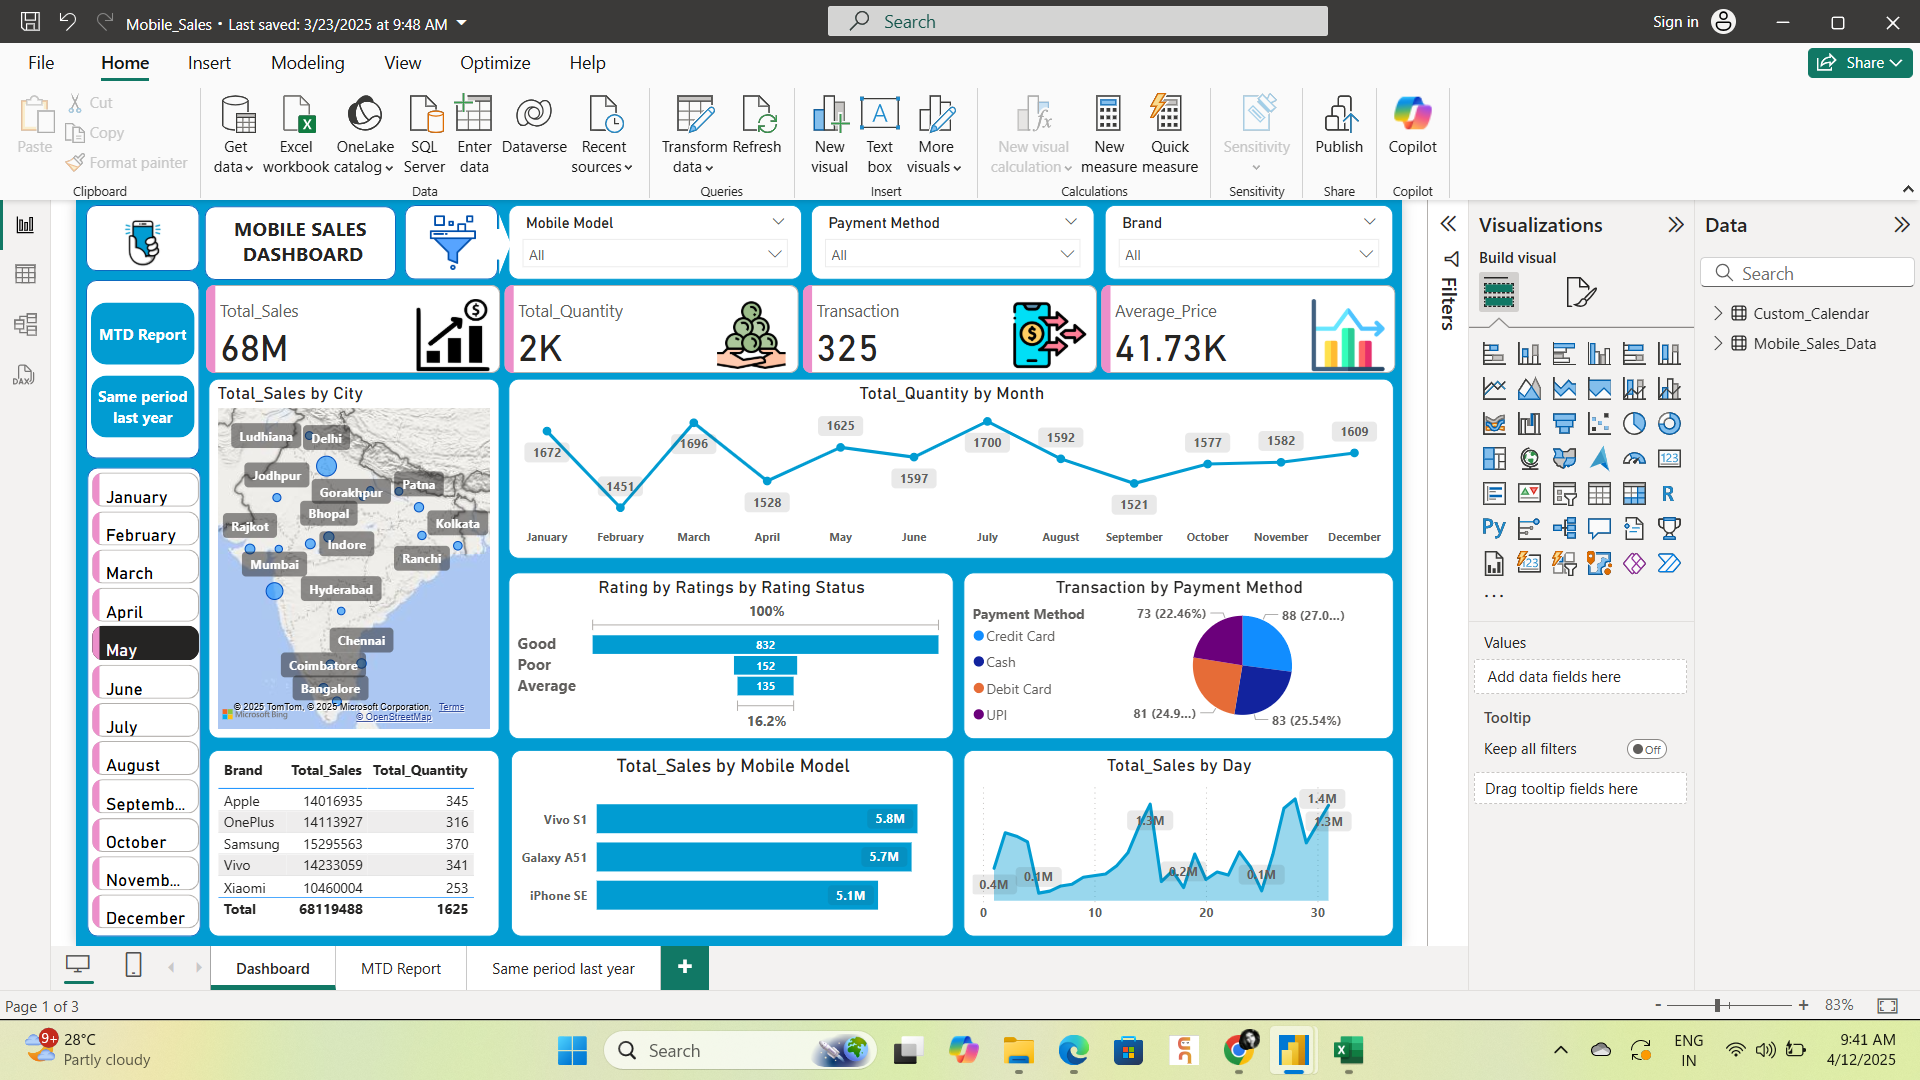

The page's visual inventory and layout, read from the dashboard file:
{"tool":"powerbi","page":{"name":"Dashboard","canvas":[1280,720],"ordinal":0},"visuals":[{"type":"shape","box":[9.7,4.8,109.8,63.9],"z":0},{"type":"image","box":[31.4,4.8,66.4,72.4],"z":1000},{"type":"shape","box":[9.7,77.2,109.8,172.5],"z":2000},{"type":"shape","box":[10.9,258.2,109.8,452.4],"z":3000},{"type":"advancedSlicerVisual","fields":{"Values":["Custom_Calendar.Date.Variation.Date Hierarchy.Month"]},"box":[10.9,258.2,113.4,452.4],"z":4000},{"type":"cardVisual","fields":{"Data":["Mobile_Sales_Data.Total_Sales","Mobile_Sales_Data.Total_Quantity","Mobile_Sales_Data.Transaction","Mobile_Sales_Data.Average_Price"]},"box":[120.6,77.2,1159.4,95.3],"z":5000},{"type":"slicer","fields":{"Values":["Mobile_Sales_Data.Mobile Model"]},"box":[417.4,4.8,283.5,72.4],"z":6000},{"type":"slicer","fields":{"Values":["Mobile_Sales_Data.Brand"]},"box":[992.9,4.8,278.7,72.4],"z":7000},{"type":"slicer","fields":{"Values":["Mobile_Sales_Data.Payment Method"]},"box":[709.4,4.8,273.9,72.4],"z":8000},{"type":"shape","box":[317.3,4.8,90.5,72.4],"z":9000},{"type":"image","box":[331.8,6,63.9,71.2],"z":10000},{"type":"shape","box":[396.9,13.3,22.9,59.1],"z":11000},{"type":"shape","box":[124.3,6,184.6,71.2],"z":12000},{"type":"textbox","box":[139.9,9.7,153.2,65.1],"z":13000},{"type":"map","fields":{"Category":["Mobile_Sales_Data.City"],"Size":["Mobile_Sales_Data.Total_Sales"]},"box":[127.9,172.5,281.1,347.5],"z":14000},{"type":"lineChart","fields":{"Y":["Mobile_Sales_Data.Total_Quantity"],"Category":["Custom_Calendar.Date.Variation.Date Hierarchy.Month"]},"box":[417.4,172.5,854.2,173.7],"z":15000},{"type":"funnel","title":"Rating by  Ratings by Rating Status","fields":{"Y":["Sum(Mobile_Sales_Data.Customer Ratings)"],"Category":["Mobile_Sales_Data.Rating Status"]},"box":[417.4,359.5,429.5,160.5],"z":16000},{"type":"pieChart","fields":{"Y":["Mobile_Sales_Data.Transaction"],"Category":["Mobile_Sales_Data.Payment Method"]},"box":[856.6,359.5,415,160.5],"z":17000},{"type":"clusteredBarChart","fields":{"Y":["Mobile_Sales_Data.Total_Sales"],"Category":["Mobile_Sales_Data.Mobile Model"]},"box":[419.8,530.8,427.1,179.8],"z":18000},{"type":"areaChart","fields":{"Category":["Custom_Calendar.Date.Variation.Date Hierarchy.Day"],"Y":["Mobile_Sales_Data.Total_Sales"]},"box":[856.6,530.8,415,179.8],"z":19000},{"type":"tableEx","fields":{"Values":["Mobile_Sales_Data.Brand","Mobile_Sales_Data.Total_Sales","Mobile_Sales_Data.Total_Quantity"]},"box":[127.9,530.8,281.1,179.8],"z":20000},{"type":"pageNavigator","box":[14.5,98.9,100.1,130.3],"z":20001}]}

Visuals, with their boxes on the page's 1280x720 design canvas (x1, y1, x2, y2). These are canvas units, not pixel positions in the 1920x1080 screenshot, which may show the page scaled, cropped or inside an application window:
shape: 10 5 120 69
image: 31 5 98 77
shape: 10 77 120 250
shape: 11 258 121 711
advancedSlicerVisual - Custom_Calendar.Date.Variation.Date Hierarchy.Month: 11 258 124 711
cardVisual - Mobile_Sales_Data.Total_Sales x Mobile_Sales_Data.Total_Quantity: 121 77 1280 172
slicer - Mobile_Sales_Data.Mobile Model: 417 5 701 77
slicer - Mobile_Sales_Data.Brand: 993 5 1272 77
slicer - Mobile_Sales_Data.Payment Method: 709 5 983 77
shape: 317 5 408 77
image: 332 6 396 77
shape: 397 13 420 72
shape: 124 6 309 77
textbox: 140 10 293 75
map - Mobile_Sales_Data.City x Mobile_Sales_Data.Total_Sales: 128 172 409 520
lineChart - Mobile_Sales_Data.Total_Quantity x Custom_Calendar.Date.Variation.Date Hierarchy.Month: 417 172 1272 346
"Rating by  Ratings by Rating Status" funnel: 417 360 847 520
pieChart - Mobile_Sales_Data.Transaction x Mobile_Sales_Data.Payment Method: 857 360 1272 520
clusteredBarChart - Mobile_Sales_Data.Total_Sales x Mobile_Sales_Data.Mobile Model: 420 531 847 711
areaChart - Custom_Calendar.Date.Variation.Date Hierarchy.Day x Mobile_Sales_Data.Total_Sales: 857 531 1272 711
tableEx - Mobile_Sales_Data.Brand x Mobile_Sales_Data.Total_Sales: 128 531 409 711
pageNavigator: 14 99 115 229
